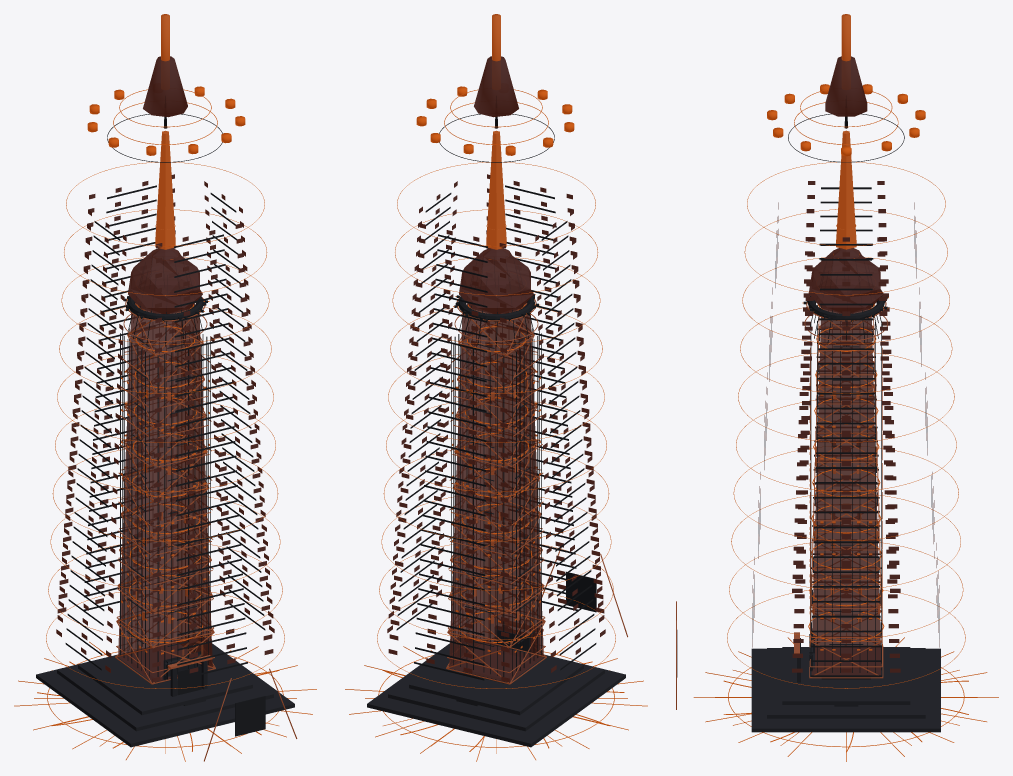
The model's file is sia-tower-ext-hero.glb.
3 renders of one model, left to right at view 1: azimuth 30°, elevation 25°; view 2: azimuth 150°, elevation 25°; view 3: azimuth 270°, elevation 25°, orthographic.
Visible parts, largest first — view 1: sia-tower_s86_glass_hero_mesh, sia-tower_s86_detail_hero_mesh, sia-tower_s86_base_hero_mesh, sia-tower_s86_energy_hero_mesh, sia-tower_s86_accent_hero_mesh, sia-tower_s86_emissive_hero_mesh; view 2: sia-tower_s86_glass_hero_mesh, sia-tower_s86_detail_hero_mesh, sia-tower_s86_base_hero_mesh, sia-tower_s86_energy_hero_mesh, sia-tower_s86_accent_hero_mesh, sia-tower_s86_emissive_hero_mesh; view 3: sia-tower_s86_glass_hero_mesh, sia-tower_s86_base_hero_mesh, sia-tower_s86_detail_hero_mesh, sia-tower_s86_energy_hero_mesh, sia-tower_s86_accent_hero_mesh, sia-tower_s86_emissive_hero_mesh.
Boxes of the visible parts, x1=… form: sia-tower_s86_glass_hero_mesh: x1=56, y1=56, x2=274, y2=682; sia-tower_s86_detail_hero_mesh: x1=65, y1=114, x2=265, y2=736; sia-tower_s86_base_hero_mesh: x1=36, y1=336, x2=294, y2=747; sia-tower_s86_energy_hero_mesh: x1=14, y1=86, x2=316, y2=761; sia-tower_s86_accent_hero_mesh: x1=115, y1=297, x2=297, y2=761; sia-tower_s86_emissive_hero_mesh: x1=121, y1=14, x2=209, y2=654; sia-tower_s86_glass_hero_mesh: x1=387, y1=56, x2=605, y2=682; sia-tower_s86_detail_hero_mesh: x1=396, y1=114, x2=596, y2=680; sia-tower_s86_base_hero_mesh: x1=367, y1=336, x2=625, y2=747; sia-tower_s86_energy_hero_mesh: x1=345, y1=86, x2=647, y2=761; sia-tower_s86_accent_hero_mesh: x1=446, y1=297, x2=627, y2=684; sia-tower_s86_emissive_hero_mesh: x1=452, y1=14, x2=540, y2=654; sia-tower_s86_glass_hero_mesh: x1=752, y1=56, x2=939, y2=675; sia-tower_s86_base_hero_mesh: x1=751, y1=330, x2=940, y2=732; sia-tower_s86_detail_hero_mesh: x1=677, y1=113, x2=939, y2=677; sia-tower_s86_energy_hero_mesh: x1=693, y1=84, x2=998, y2=761; sia-tower_s86_accent_hero_mesh: x1=676, y1=302, x2=888, y2=709; sia-tower_s86_emissive_hero_mesh: x1=809, y1=14, x2=882, y2=650.
Size of the model in its own units: 30.8 by 75.96 by 32.58.
